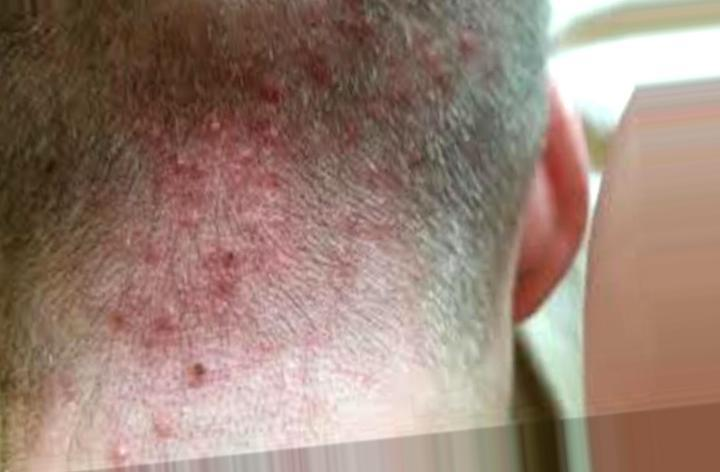Folliculitis: (124, 73, 273, 399)
